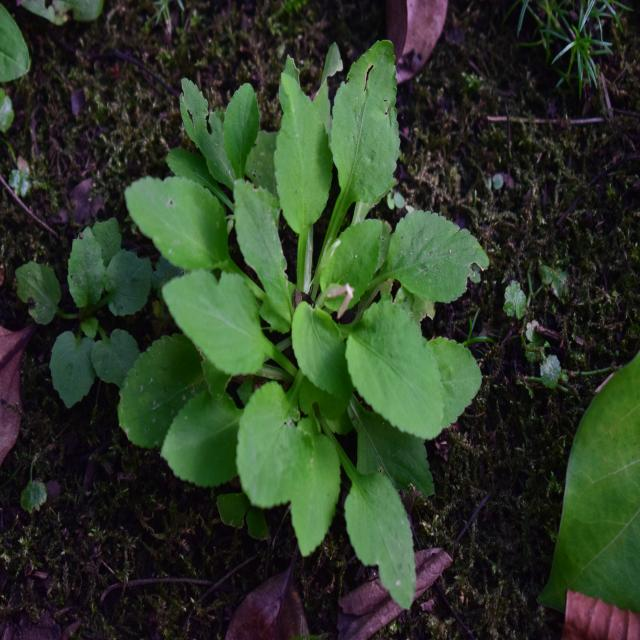Viola: (158, 53, 452, 560)
